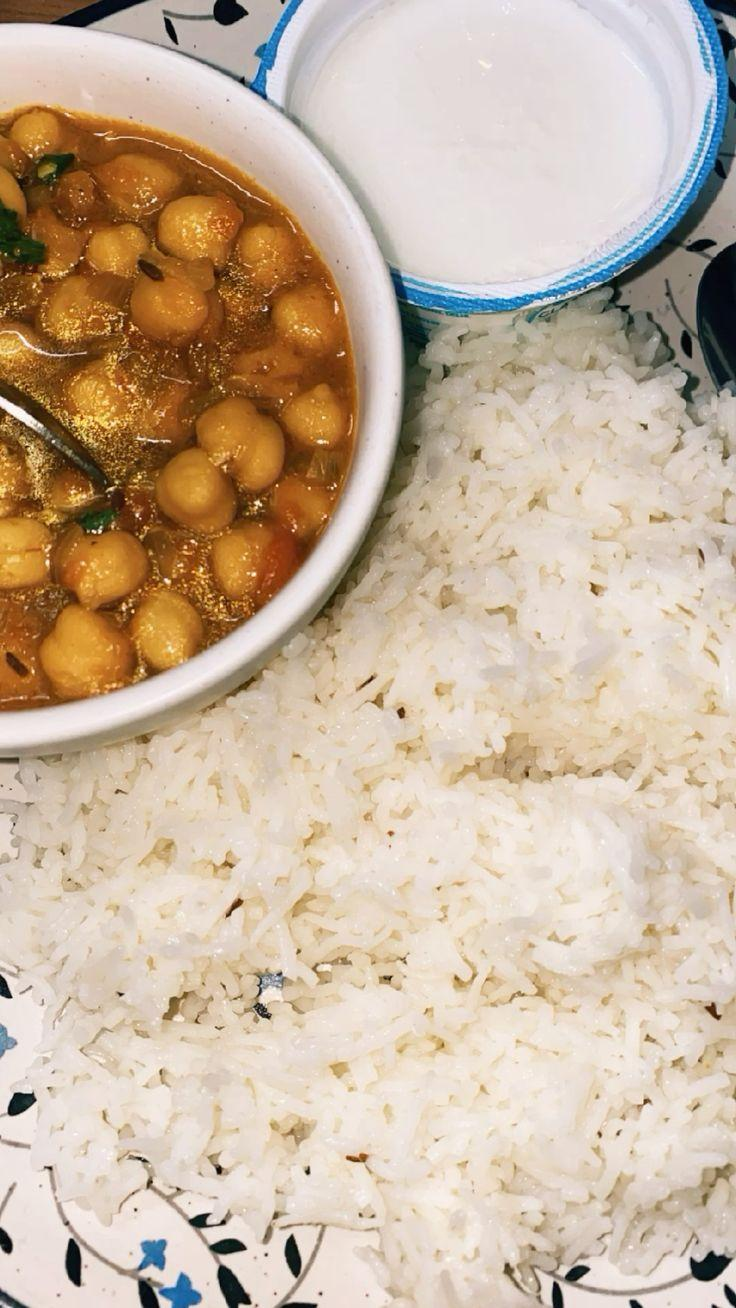chole: (7, 78, 361, 718)
rice: (167, 781, 710, 1294)
yogurt: (340, 8, 654, 239)
